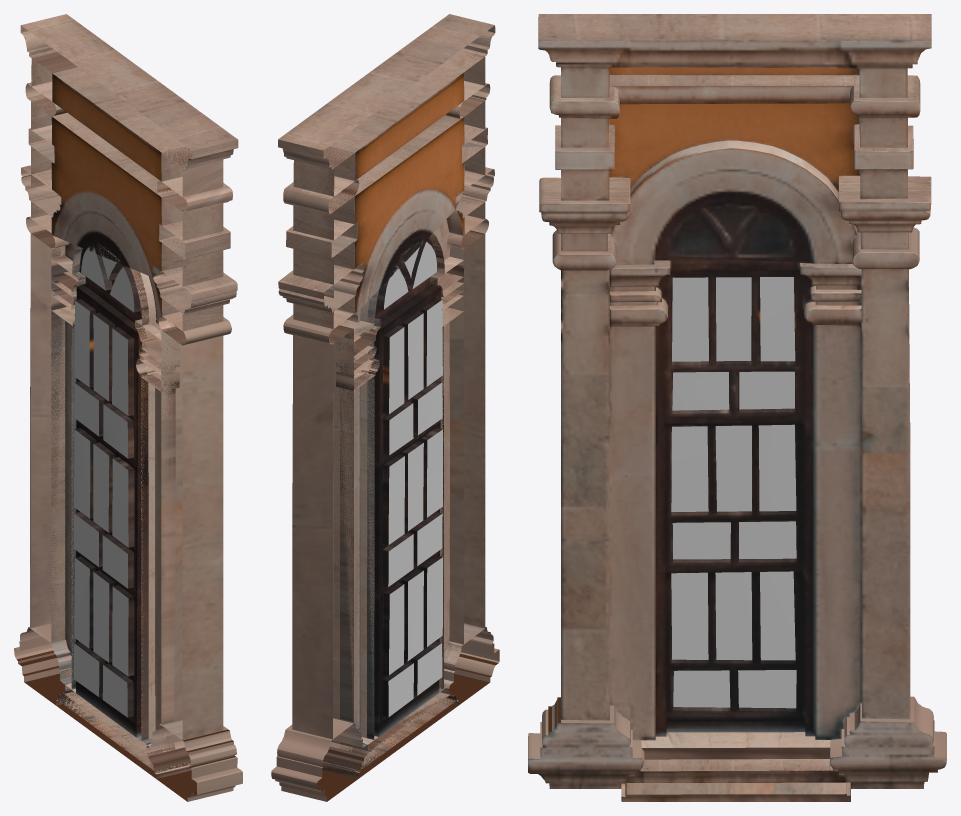
File: Church window.fbx
The picture shows the model from 3 angles, left to right: view 1: azimuth 30°, elevation 25°; view 2: azimuth 150°, elevation 25°; view 3: azimuth 270°, elevation 25°; orthographic projection. The views are drawn at different scales.
Parts seen in each view (by area): view 1: Window; view 2: Window; view 3: Window.
Boxes of the visible parts, <box> form: Window: <box>14,14,242,801</box>; Window: <box>271,14,499,801</box>; Window: <box>528,14,946,801</box>.
Size of the model in its own units: 3.6 by 29.91 by 15.15.
Materials: 3 (1 with a texture image).
